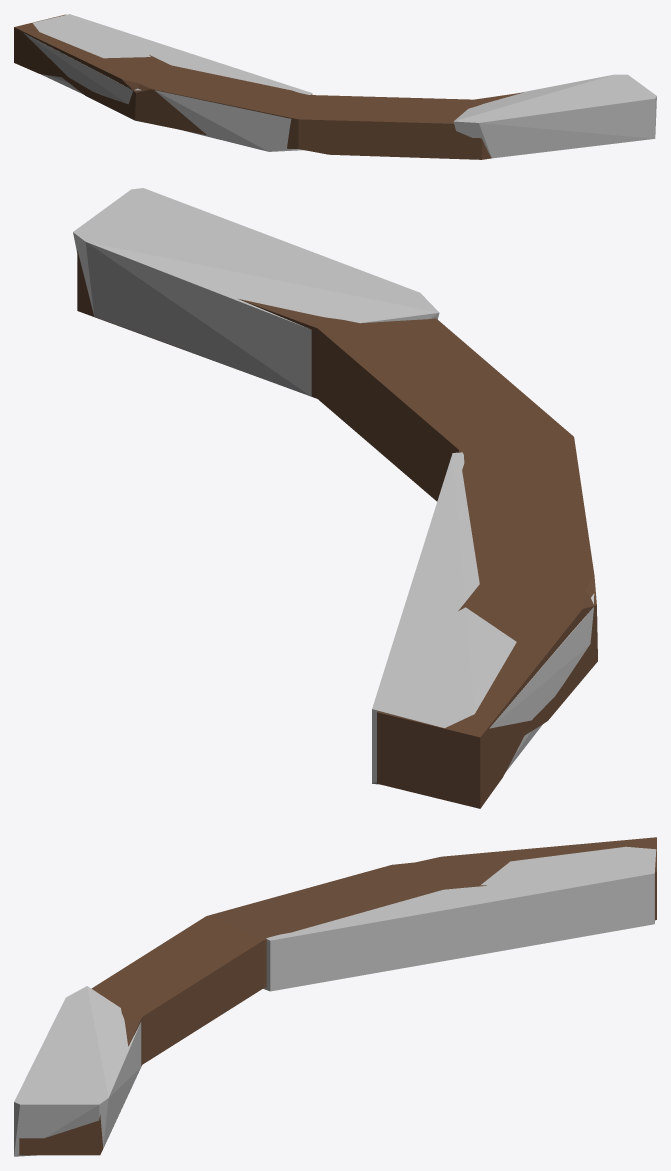
Rendered from SM_Bld_Wall_Beam_Corner_01.fbx.
3 views of the same model, one above another, from view 1: azimuth 30°, elevation 25°; view 2: azimuth 150°, elevation 25°; view 3: azimuth 270°, elevation 25° (orthographic). The views are drawn at different scales.
Parts seen in each view (by area): view 1: SM_Bld_Wall_Beam_Corner_01_ConvexHulls, SM_Bld_Wall_Beam_Corner_01; view 2: SM_Bld_Wall_Beam_Corner_01, SM_Bld_Wall_Beam_Corner_01_ConvexHulls; view 3: SM_Bld_Wall_Beam_Corner_01_ConvexHulls, SM_Bld_Wall_Beam_Corner_01.
Part boxes in pixels (left/top/right/bottom): SM_Bld_Wall_Beam_Corner_01_ConvexHulls: left=24, top=14, right=656, bottom=158; SM_Bld_Wall_Beam_Corner_01: left=14, top=14, right=523, bottom=159; SM_Bld_Wall_Beam_Corner_01: left=77, top=250, right=597, bottom=808; SM_Bld_Wall_Beam_Corner_01_ConvexHulls: left=73, top=188, right=594, bottom=784; SM_Bld_Wall_Beam_Corner_01_ConvexHulls: left=14, top=846, right=656, bottom=1156; SM_Bld_Wall_Beam_Corner_01: left=19, top=837, right=656, bottom=1155.
Bounding box in the file's own units: 268 × 268 × 25.23.
2 materials, 1 textured.
